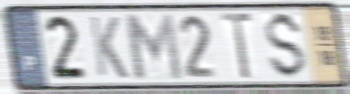2: (43, 14, 89, 82), (177, 13, 218, 80)
K: (87, 14, 131, 81)
M: (121, 12, 185, 83)
S: (265, 9, 309, 82)
T: (219, 11, 255, 82)
